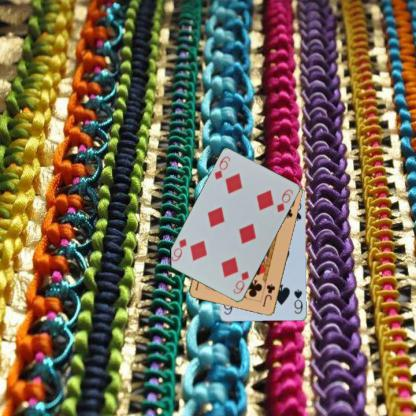6d: (212, 154, 232, 181), (231, 269, 250, 295)
6s: (292, 287, 304, 316)
Jc: (260, 281, 277, 308)
